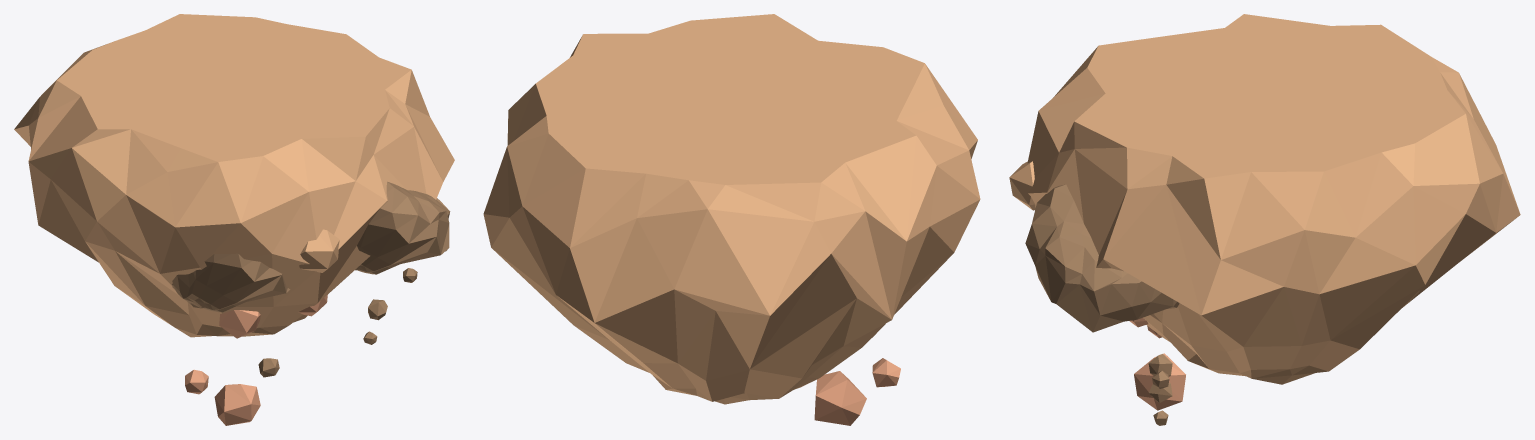
Rendered from island2.glb.
3 views of the same model, side by side, from view 1: azimuth 30°, elevation 25°; view 2: azimuth 150°, elevation 25°; view 3: azimuth 270°, elevation 25° (orthographic). The views are drawn at different scales.
Parts seen in each view (by area): view 1: Icosphere.004, Icosphere.006, Icosphere.005, Icosphere.012, Icosphere.009, Icosphere.011, Icosphere.013; view 2: Icosphere.004, Icosphere.012, Icosphere.013; view 3: Icosphere.004, Icosphere.006, Icosphere.012, Icosphere.009.
Part boxes in pixels (x1,y1,x2,y2): Icosphere.004: [14, 14, 454, 337]; Icosphere.006: [355, 181, 450, 274]; Icosphere.005: [172, 253, 290, 312]; Icosphere.012: [214, 384, 260, 425]; Icosphere.009: [299, 229, 339, 272]; Icosphere.011: [219, 310, 260, 338]; Icosphere.013: [185, 369, 208, 394]; Icosphere.004: [483, 14, 980, 404]; Icosphere.012: [814, 371, 866, 425]; Icosphere.013: [872, 358, 900, 387]; Icosphere.004: [1027, 14, 1520, 384]; Icosphere.006: [1025, 184, 1179, 332]; Icosphere.012: [1134, 353, 1185, 410]; Icosphere.009: [1009, 161, 1035, 210].
Bounding box in the file's own units: 8.58 × 6.51 × 9.05.
